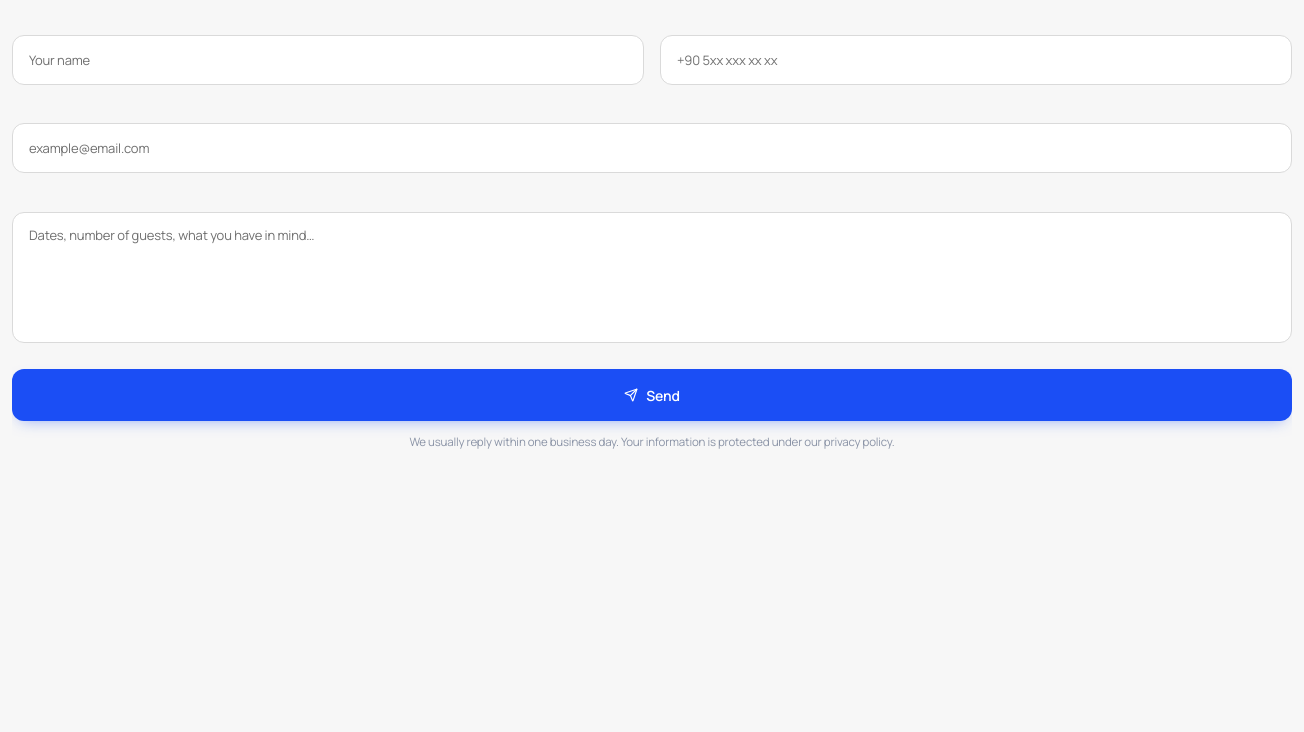
Test: ContactForm — çoklu dil › 33) en: telefon/e-posta zorunluluğu kendi dilinde
Type "Ad" into the field with placeholder "Your name" at [328, 60], box [12,34,644,84]
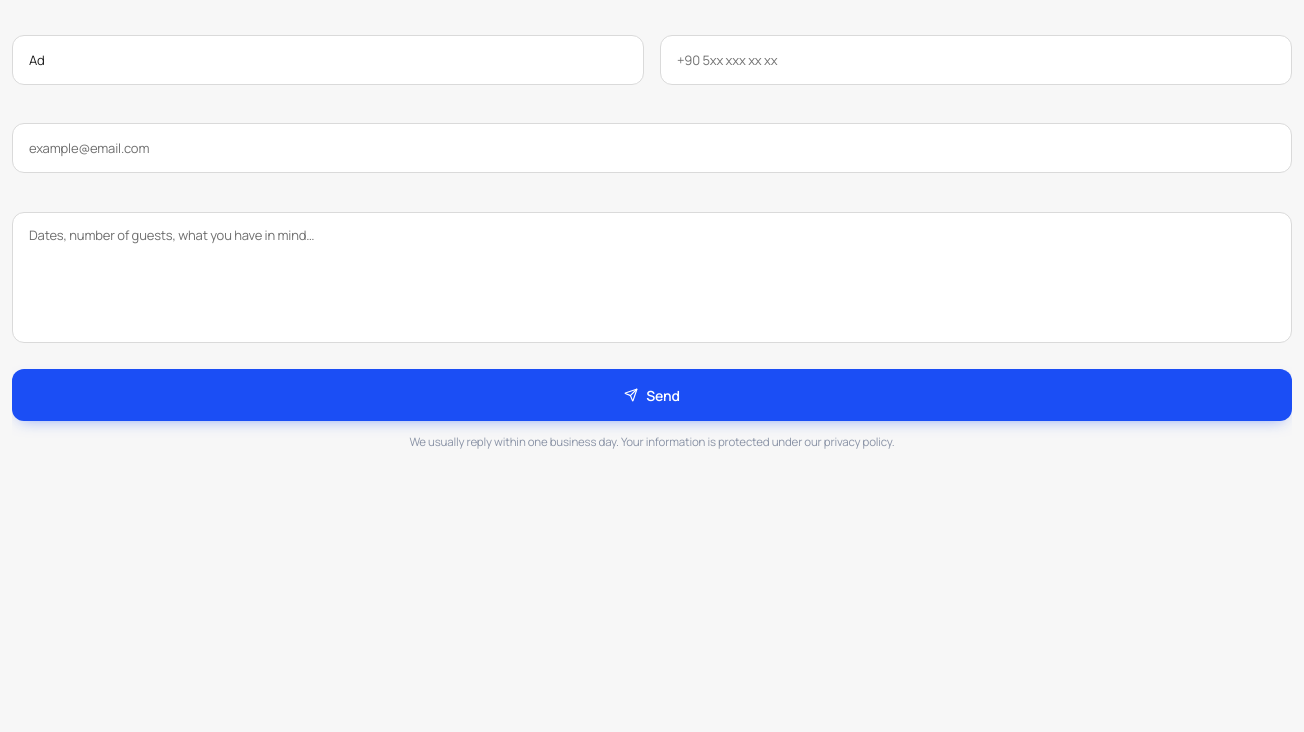
Type "On karakterden uzun bir mesaj." into the text box with placeholder "Dates, number of guests, what you have in mind…" at [652, 277], box [12,212,1292,343]
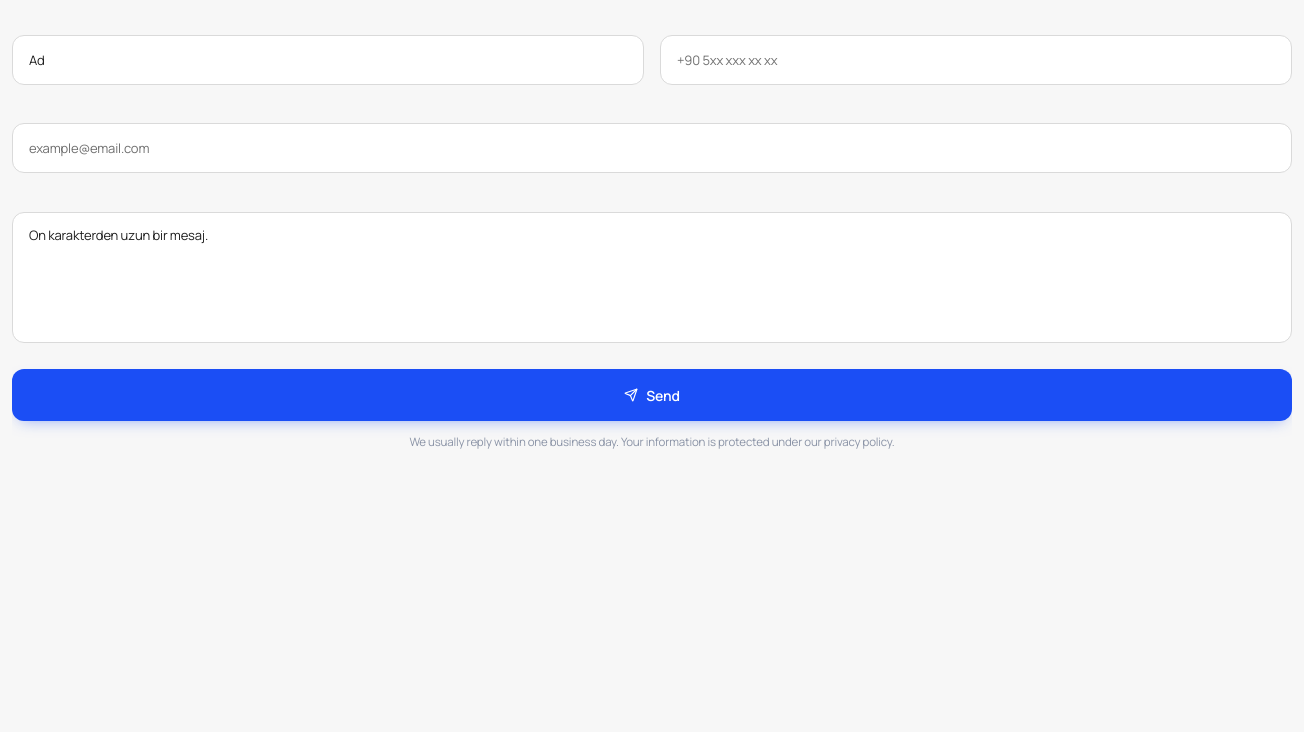
Submit the text "Send", box [12,12,1292,452]
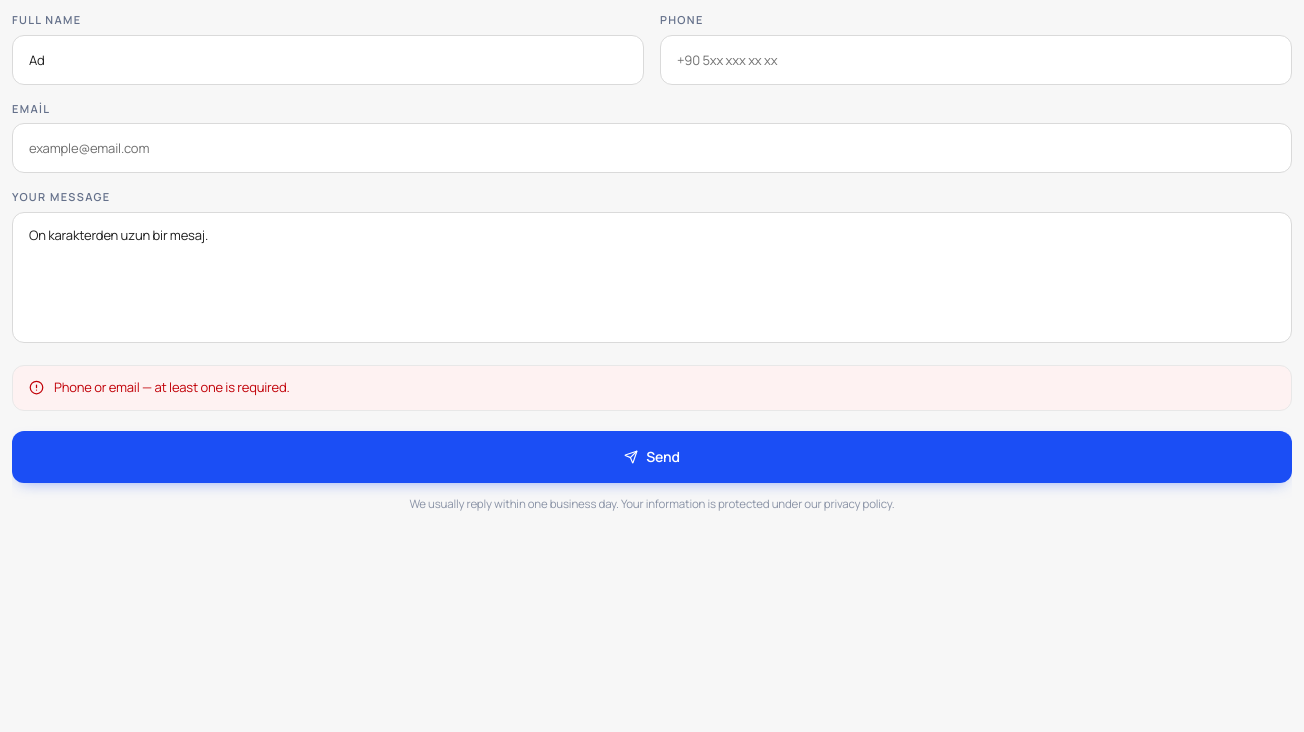
Now the text "Phone or email — at least one is required." is shown, box [54,378,290,398]
